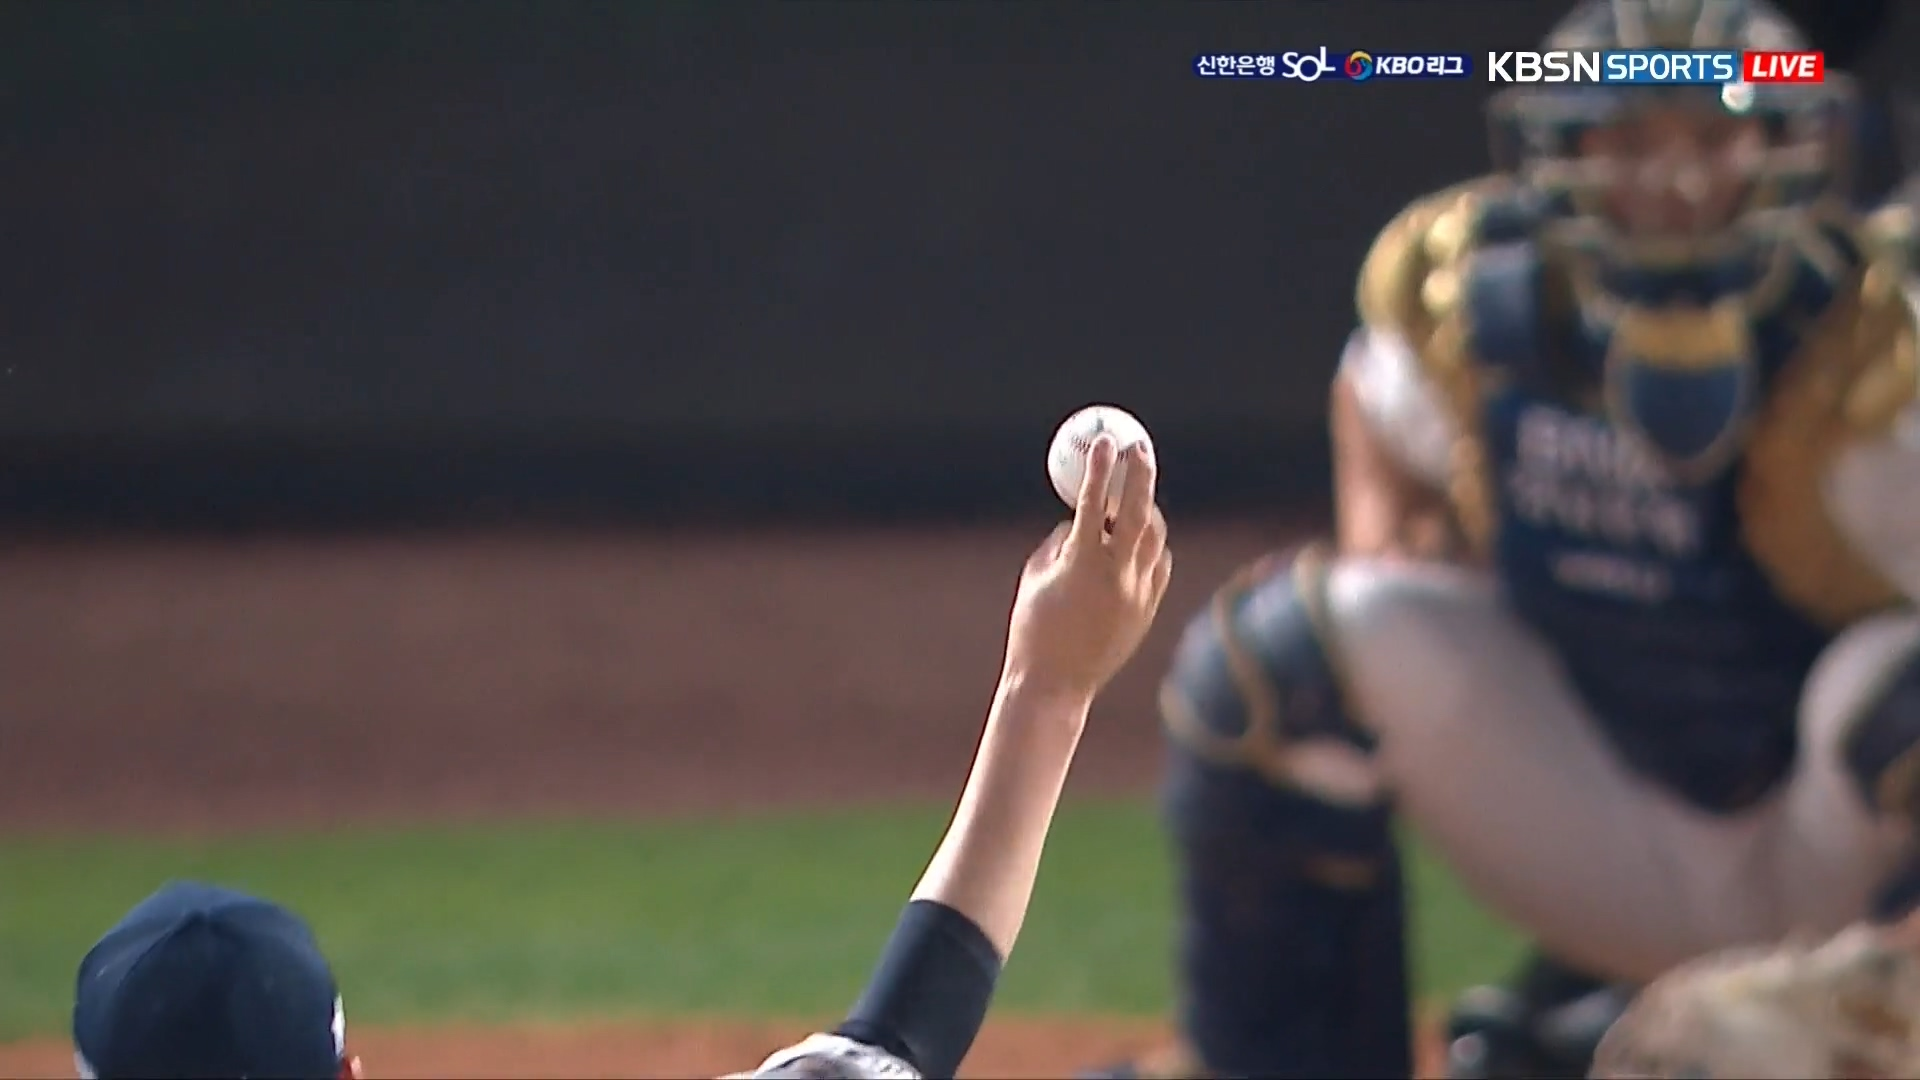zoomin_hand: (857, 376, 1178, 1060)
